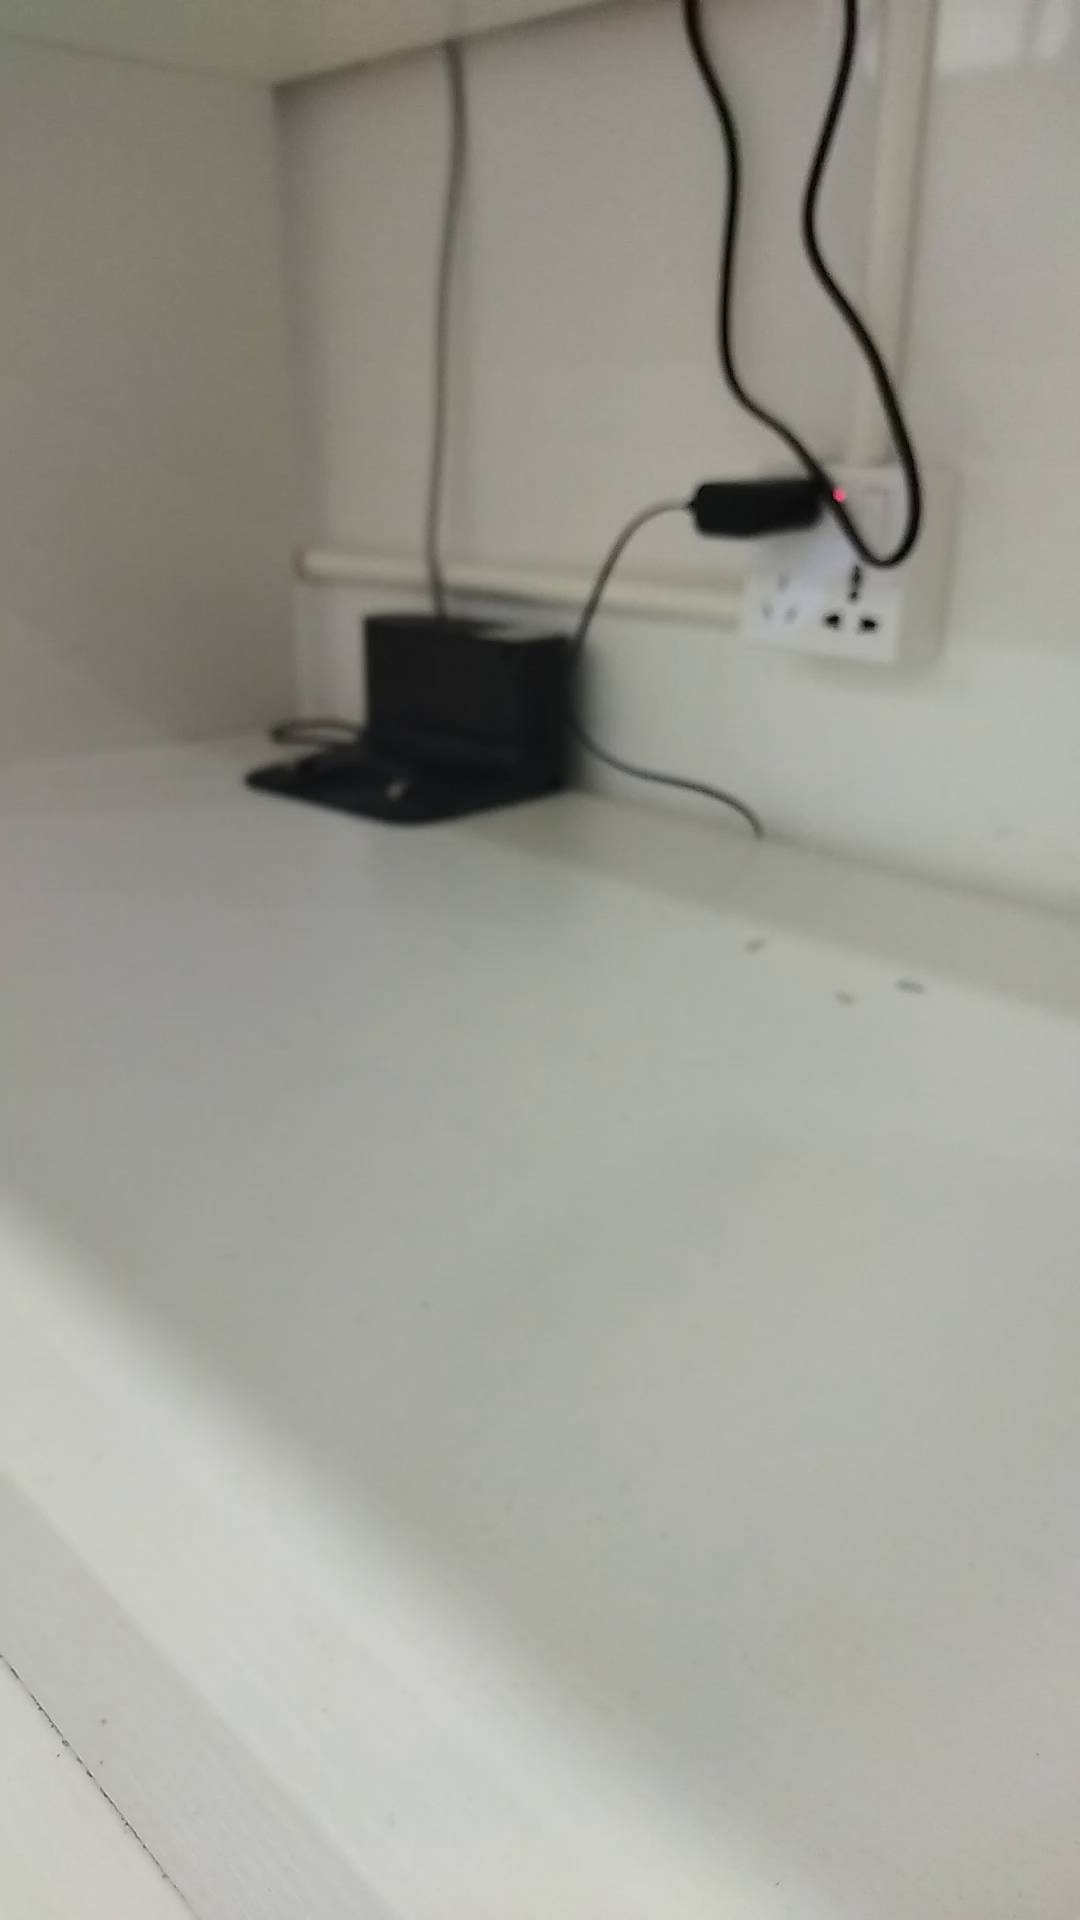recharge seat: (239, 604, 589, 831)
